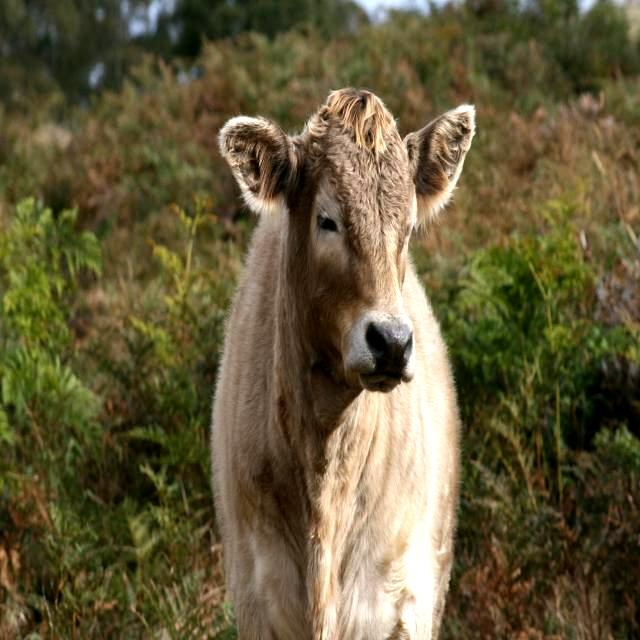COW: (211, 90, 474, 639)
